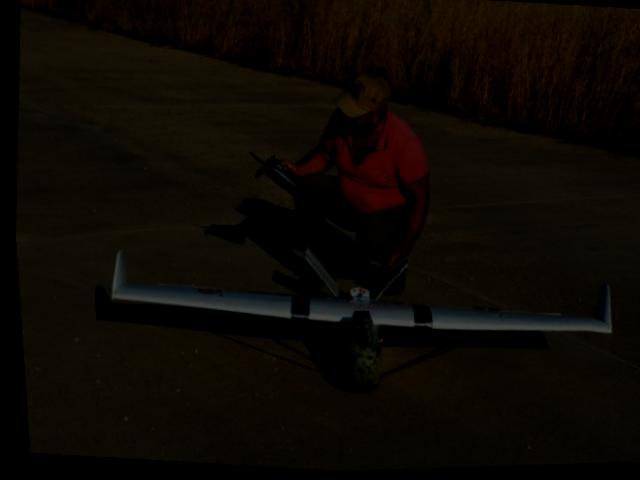iha: (101, 218, 625, 415)
